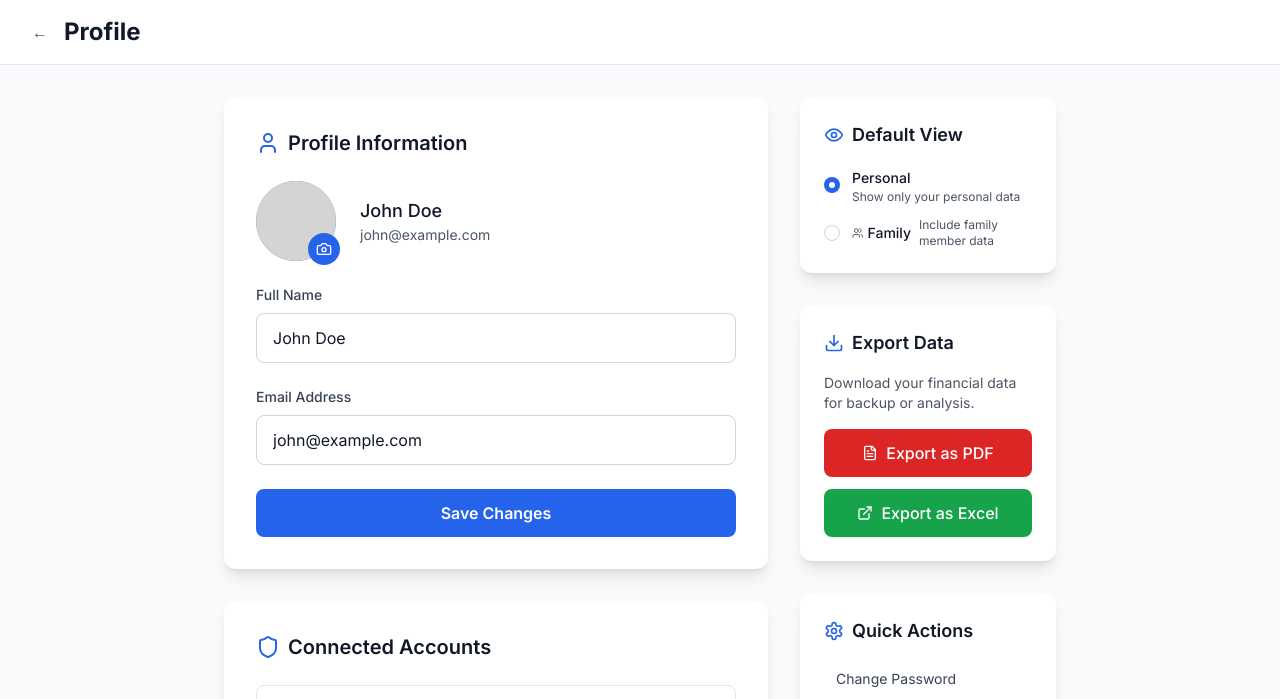
Scenario: ProfilePage › submits profile form with valid data
Replace the text in the field showing "John Doe" with "John Smith". click: (496, 338)
box: [256,313,736,363]
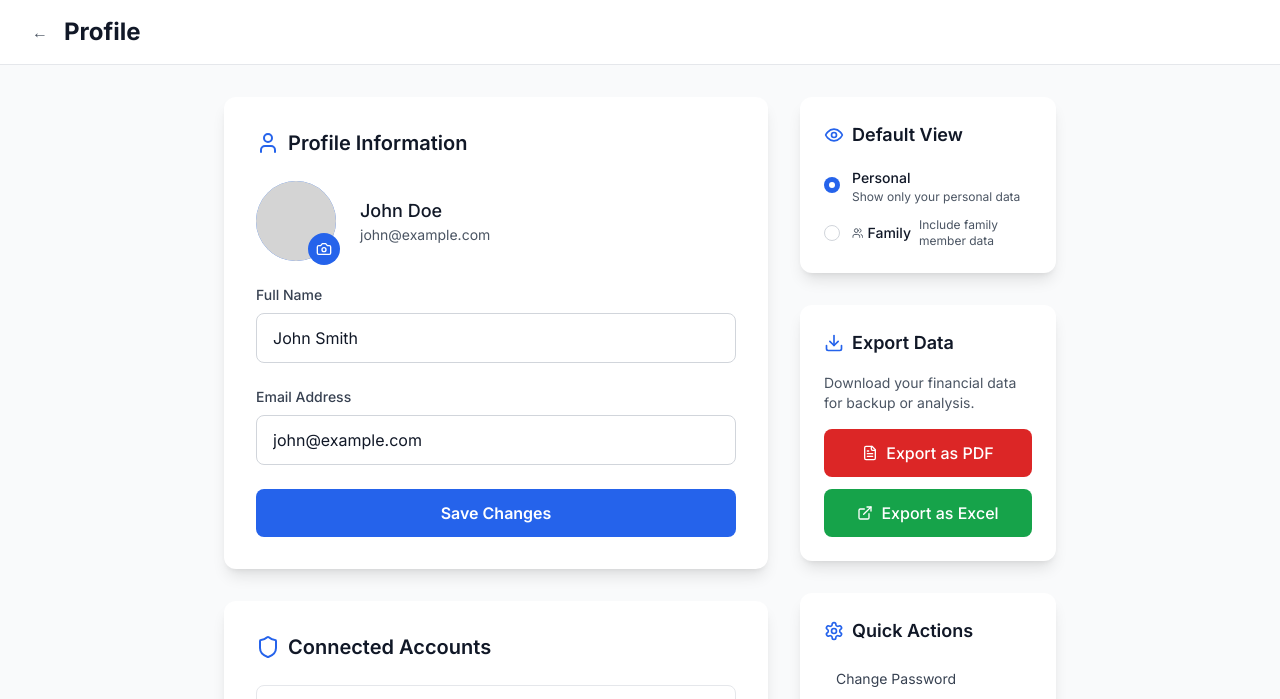
Click the button "Save Changes". click: (496, 513)
box: [256,489,736,537]
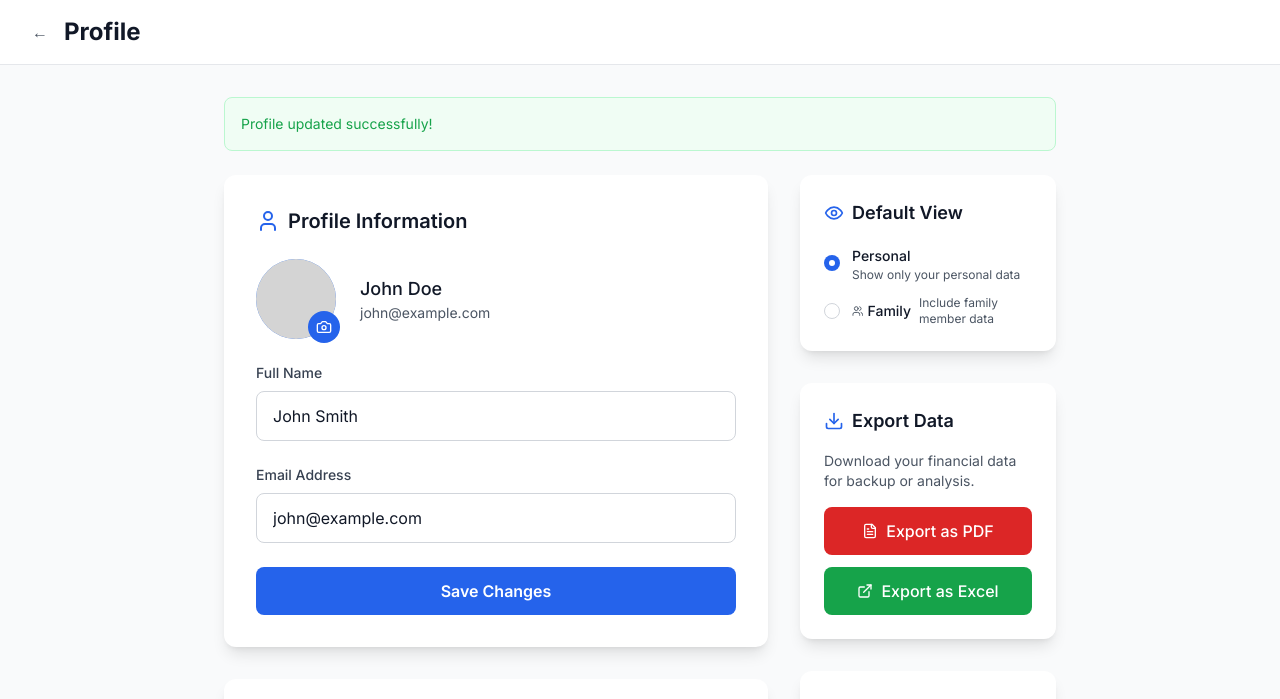
Now the text "Profile updated successfully!" is shown, box [241,115,433,132]
